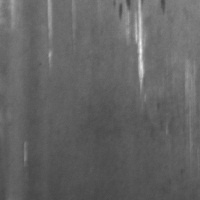scratches: (132, 1, 147, 94), (44, 1, 55, 70)
